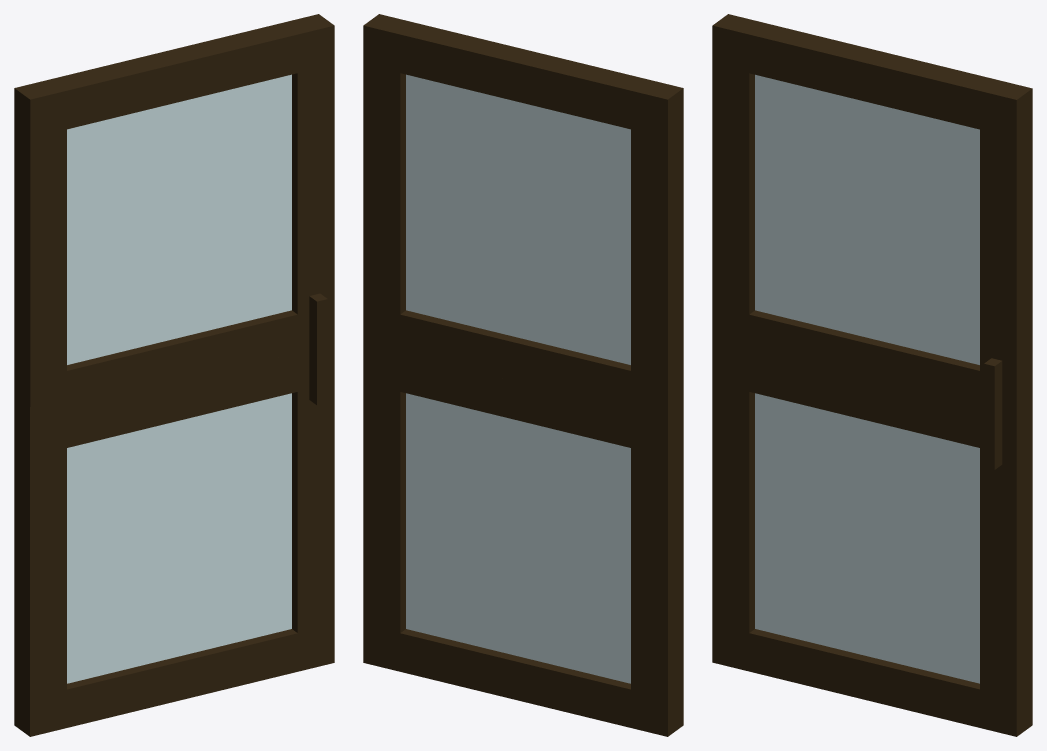
The model's file is Itr_Window_Half_Left_02.FBX.
3 views of the same model, side by side, from view 1: azimuth 30°, elevation 25°; view 2: azimuth 150°, elevation 25°; view 3: azimuth 330°, elevation 25° (orthographic).
Visible parts, largest first — view 1: Itr_Window_Half_Left_02; view 2: Itr_Window_Half_Left_02; view 3: Itr_Window_Half_Left_02.
Part boxes in pixels (x1=…): Itr_Window_Half_Left_02: x1=14, y1=14, x2=334, y2=736; Itr_Window_Half_Left_02: x1=363, y1=14, x2=683, y2=736; Itr_Window_Half_Left_02: x1=712, y1=14, x2=1032, y2=736.
Bounding box in the file's own units: 32.64 × 65.29 × 4.34.
